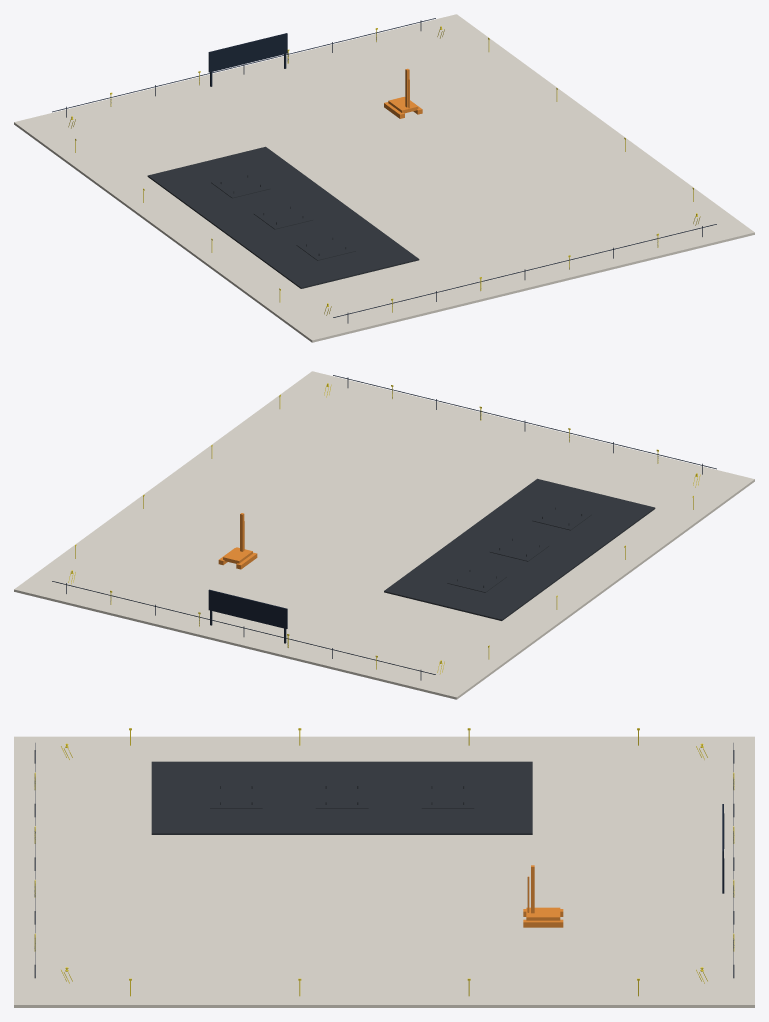
The model's file is hq_10_factory_l0.glb.
The picture shows the model from 3 angles, top to bottom: view 1: azimuth 30°, elevation 25°; view 2: azimuth 150°, elevation 25°; view 3: azimuth 270°, elevation 25°; orthographic projection. The views are drawn at different scales.
Visible parts, largest first — view 1: GEO_Factory_Foundation_Plinth, GEO_Factory_Excavation_Pits, GEO_Factory_Site_Signboard_Fence, GEO_Factory_Pile_Driver_Rig; view 2: GEO_Factory_Foundation_Plinth, GEO_Factory_Excavation_Pits, GEO_Factory_Site_Signboard_Fence, GEO_Factory_Pile_Driver_Rig; view 3: GEO_Factory_Foundation_Plinth, GEO_Factory_Excavation_Pits, GEO_Factory_Pile_Driver_Rig, GEO_Factory_Site_Signboard_Fence, GEO_Factory_Boundary_Stakes.
Part boxes in pixels (x1=…): GEO_Factory_Foundation_Plinth: x1=14, y1=14, x2=754, y2=342; GEO_Factory_Excavation_Pits: x1=147, y1=146, x2=419, y2=288; GEO_Factory_Site_Signboard_Fence: x1=52, y1=18, x2=716, y2=323; GEO_Factory_Pile_Driver_Rig: x1=384, y1=68, x2=422, y2=118; GEO_Factory_Foundation_Plinth: x1=14, y1=371, x2=754, y2=699; GEO_Factory_Excavation_Pits: x1=384, y1=478, x2=655, y2=620; GEO_Factory_Site_Signboard_Fence: x1=52, y1=375, x2=716, y2=680; GEO_Factory_Pile_Driver_Rig: x1=218, y1=513, x2=257, y2=569; GEO_Factory_Foundation_Plinth: x1=14, y1=736, x2=754, y2=1007; GEO_Factory_Excavation_Pits: x1=151, y1=761, x2=532, y2=834; GEO_Factory_Pile_Driver_Rig: x1=523, y1=865, x2=563, y2=927; GEO_Factory_Site_Signboard_Fence: x1=34, y1=743, x2=734, y2=978; GEO_Factory_Boundary_Stakes: x1=34, y1=728, x2=734, y2=996.
Size of what is drawn, in the model's own units: 60 by 6 by 70.
